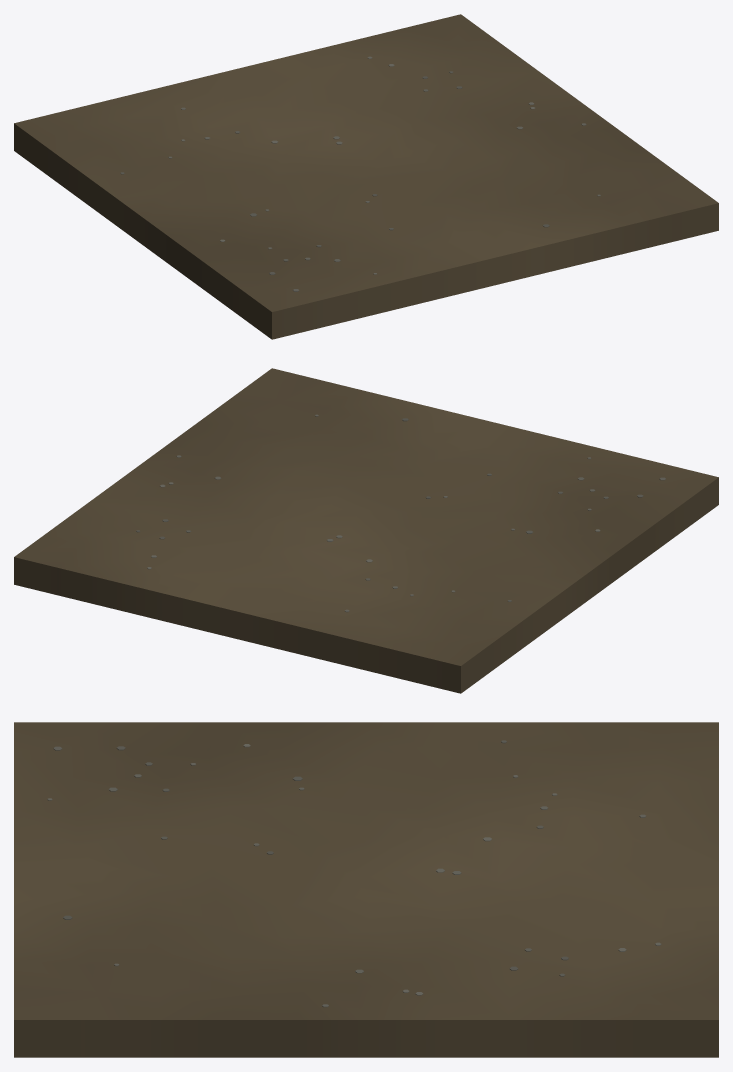
The model's file is SM_Henhouse_YardGround_500_A.fbx.
3 views of the same model, one above another, from view 1: azimuth 30°, elevation 25°; view 2: azimuth 150°, elevation 25°; view 3: azimuth 270°, elevation 25° (orthographic). The views are drawn at different scales.
Visible parts, largest first — view 1: SM_Henhouse_YardGround_500_A; view 2: SM_Henhouse_YardGround_500_A; view 3: SM_Henhouse_YardGround_500_A.
Part boxes in pixels (bbox=[...]): SM_Henhouse_YardGround_500_A: bbox=[14, 14, 718, 339]; SM_Henhouse_YardGround_500_A: bbox=[14, 368, 718, 693]; SM_Henhouse_YardGround_500_A: bbox=[14, 722, 718, 1057].
Size of what is drawn, in the model's own units: 500 by 500 by 30.
